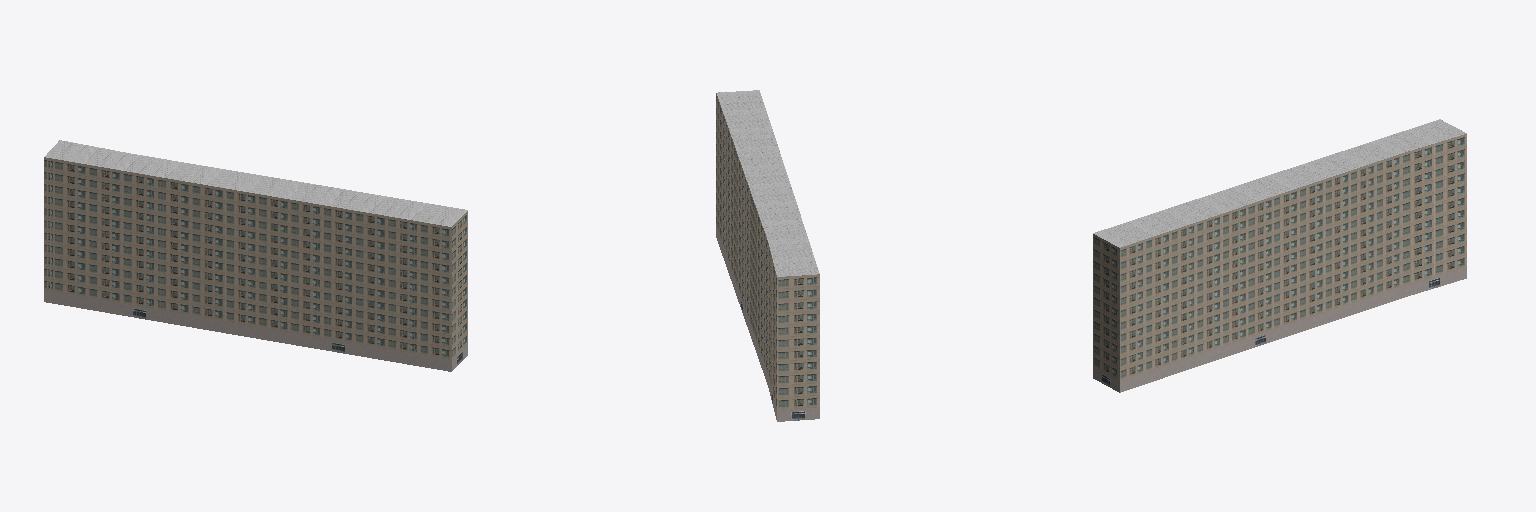
The picture shows the model from 3 angles: view 1: azimuth 30°, elevation 25°; view 2: azimuth 150°, elevation 25°; view 3: azimuth 270°, elevation 25°; orthographic projection.
Parts seen in each view (by area): view 1: BuildingMaster_[number redacted]_0, BuildingMaster_[number redacted]_1; view 2: BuildingMaster_[number redacted]_0, BuildingMaster_[number redacted]_1; view 3: BuildingMaster_[number redacted]_0, BuildingMaster_[number redacted]_1.
Boxes of the visible parts, x1,y1,x2,y2 form: BuildingMaster_[number redacted]_0: [44, 157, 467, 371]; BuildingMaster_[number redacted]_1: [45, 140, 467, 226]; BuildingMaster_[number redacted]_0: [716, 93, 819, 421]; BuildingMaster_[number redacted]_1: [717, 90, 819, 276]; BuildingMaster_[number redacted]_0: [1093, 134, 1466, 392]; BuildingMaster_[number redacted]_1: [1093, 119, 1466, 247].
Bounding box in the file's own units: 80.08 × 42 × 98.38.
2 materials, 2 textured.